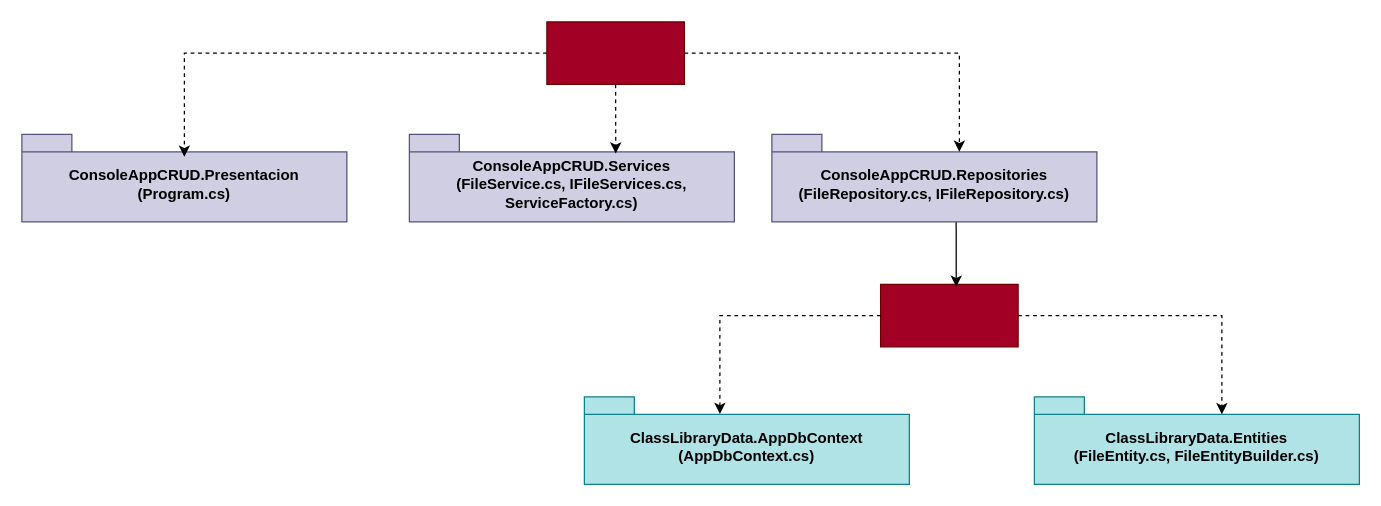
This 1381x506 diagram has some shape labels left out. Here are the shapes that lost their labels. From the top down, the box of each, then its label:
(546, 21, 684, 84): ConsoleAppCRUD
(879, 283, 1018, 347): ClassLibraryData
